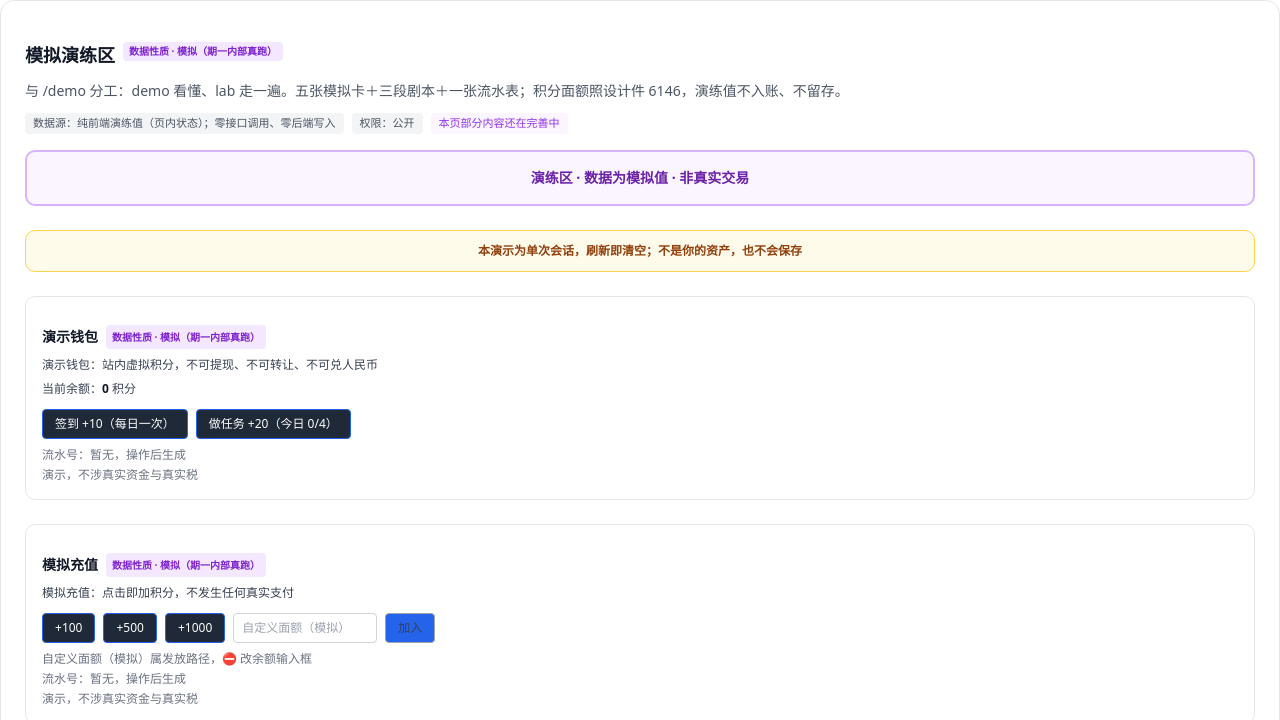
B26 演练区：发放入口（签到／任务／充值） › 充值为发放路径：面额按钮与自定义面额均加积分；自定义标明模拟
Click the button with test id "lab-topup-100" at (69, 628), box 42,612 -> 96,642
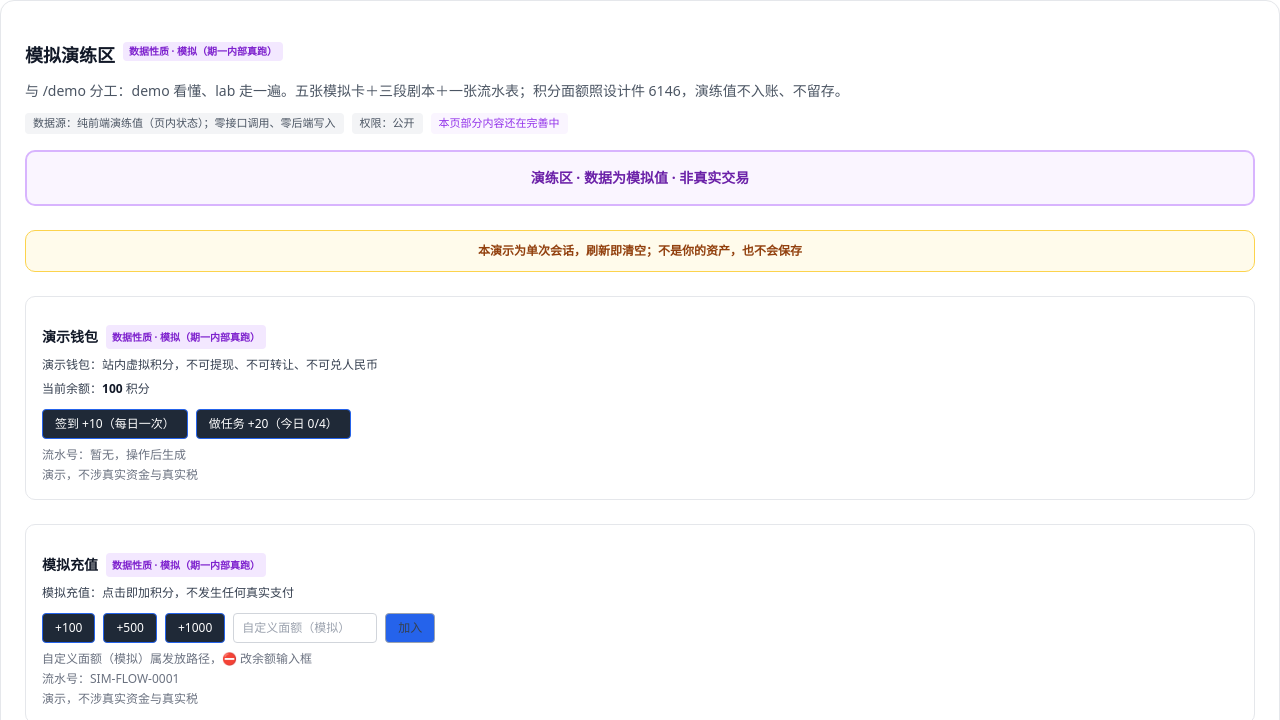
Expected: the text with test id "lab-balance" reads "100", 102,380 -> 123,396
Type "50" into the field with test id "lab-topup-custom" at (305, 628), box 233,612 -> 377,642
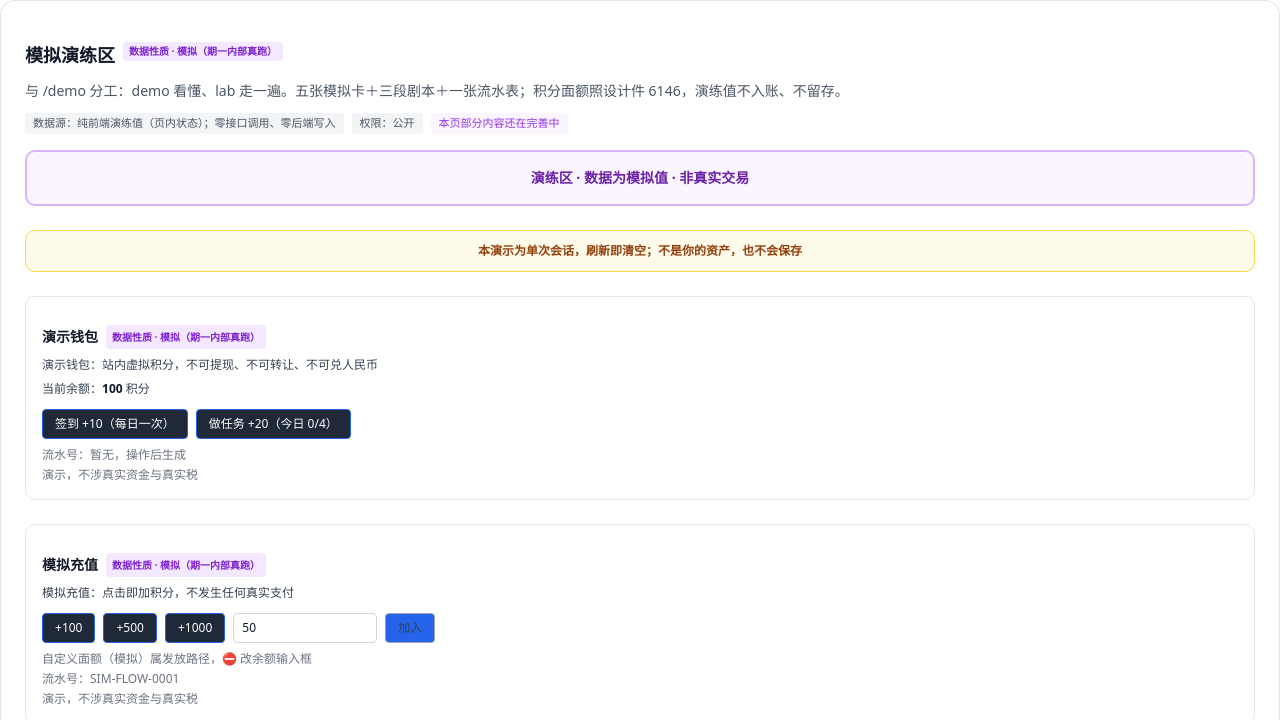
Click the button with test id "lab-topup-custom-go" at (410, 628), box 385,612 -> 435,642
(page scrolled)
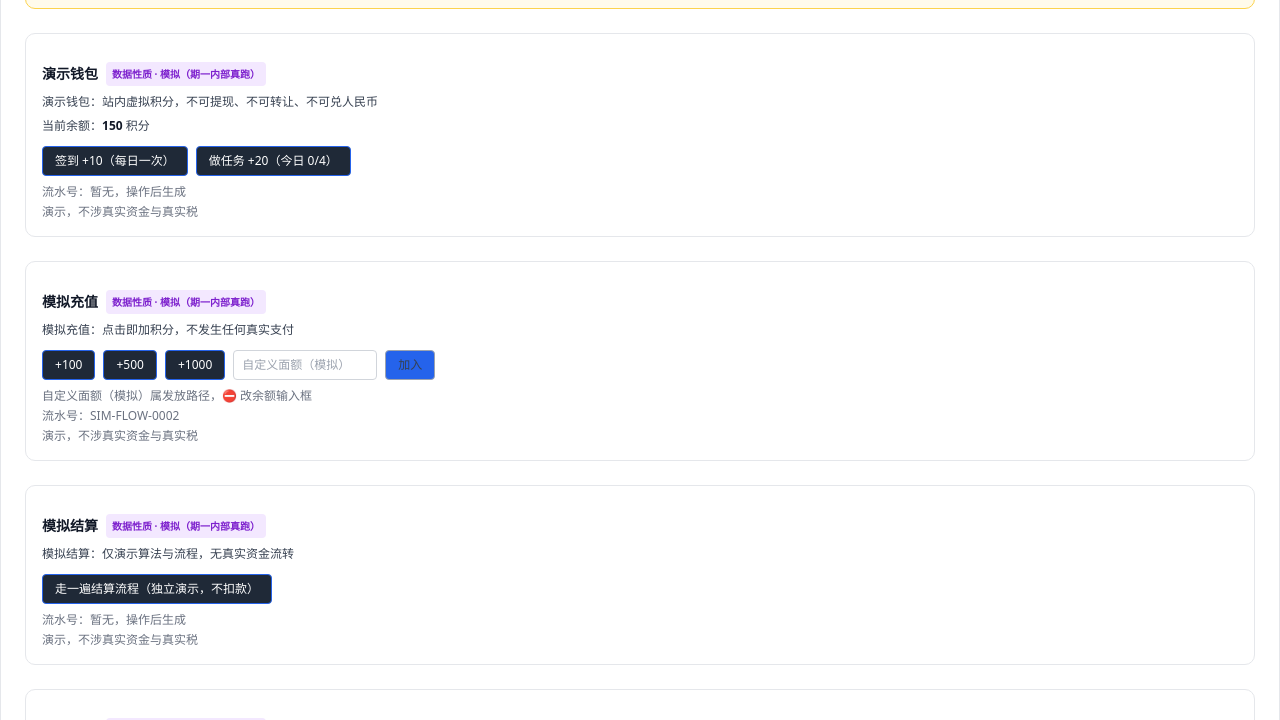
Expected: the element with test id "lab-topup" shows "自定义面额（模拟）", 42,386 -> 312,404
Expected: the text with test id "lab-balance" reads "150", 102,116 -> 123,134
